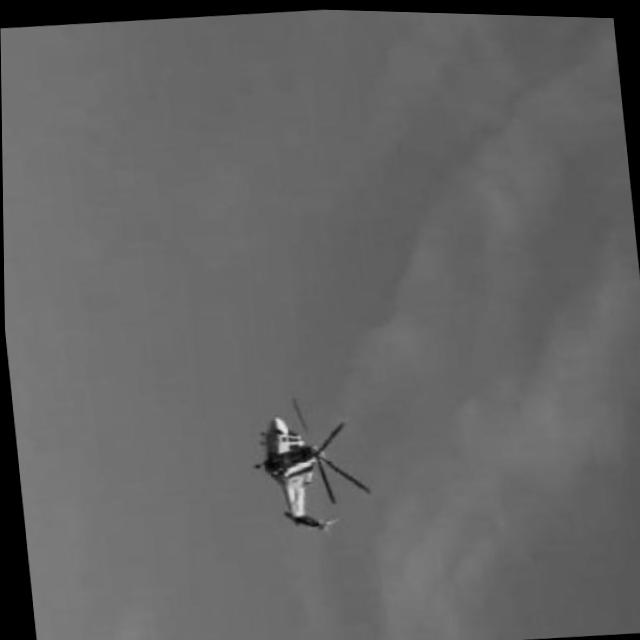helikopter: (247, 391, 370, 534)
